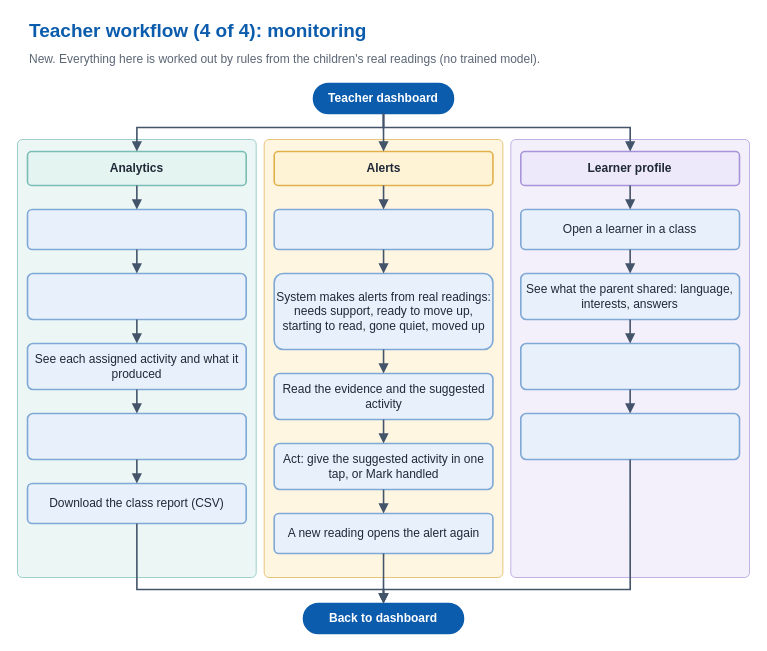
Image size: 767x651. Some labels were removed from this diagram. Here are the shapes that lost their labels. From the top down, the centre of each, then its label:
pixel 136 229: Open Analytics
pixel 383 229: Open Alerts
pixel 136 296: See class numbers: readings this week, levels, words missed most
pixel 630 366: See where the child reads now: Phil-IRI level and step
pixel 136 436: See 'Did it work?': class activities against general ones
pixel 630 436: See what suits the child: teaching moves and main mistake pattern
